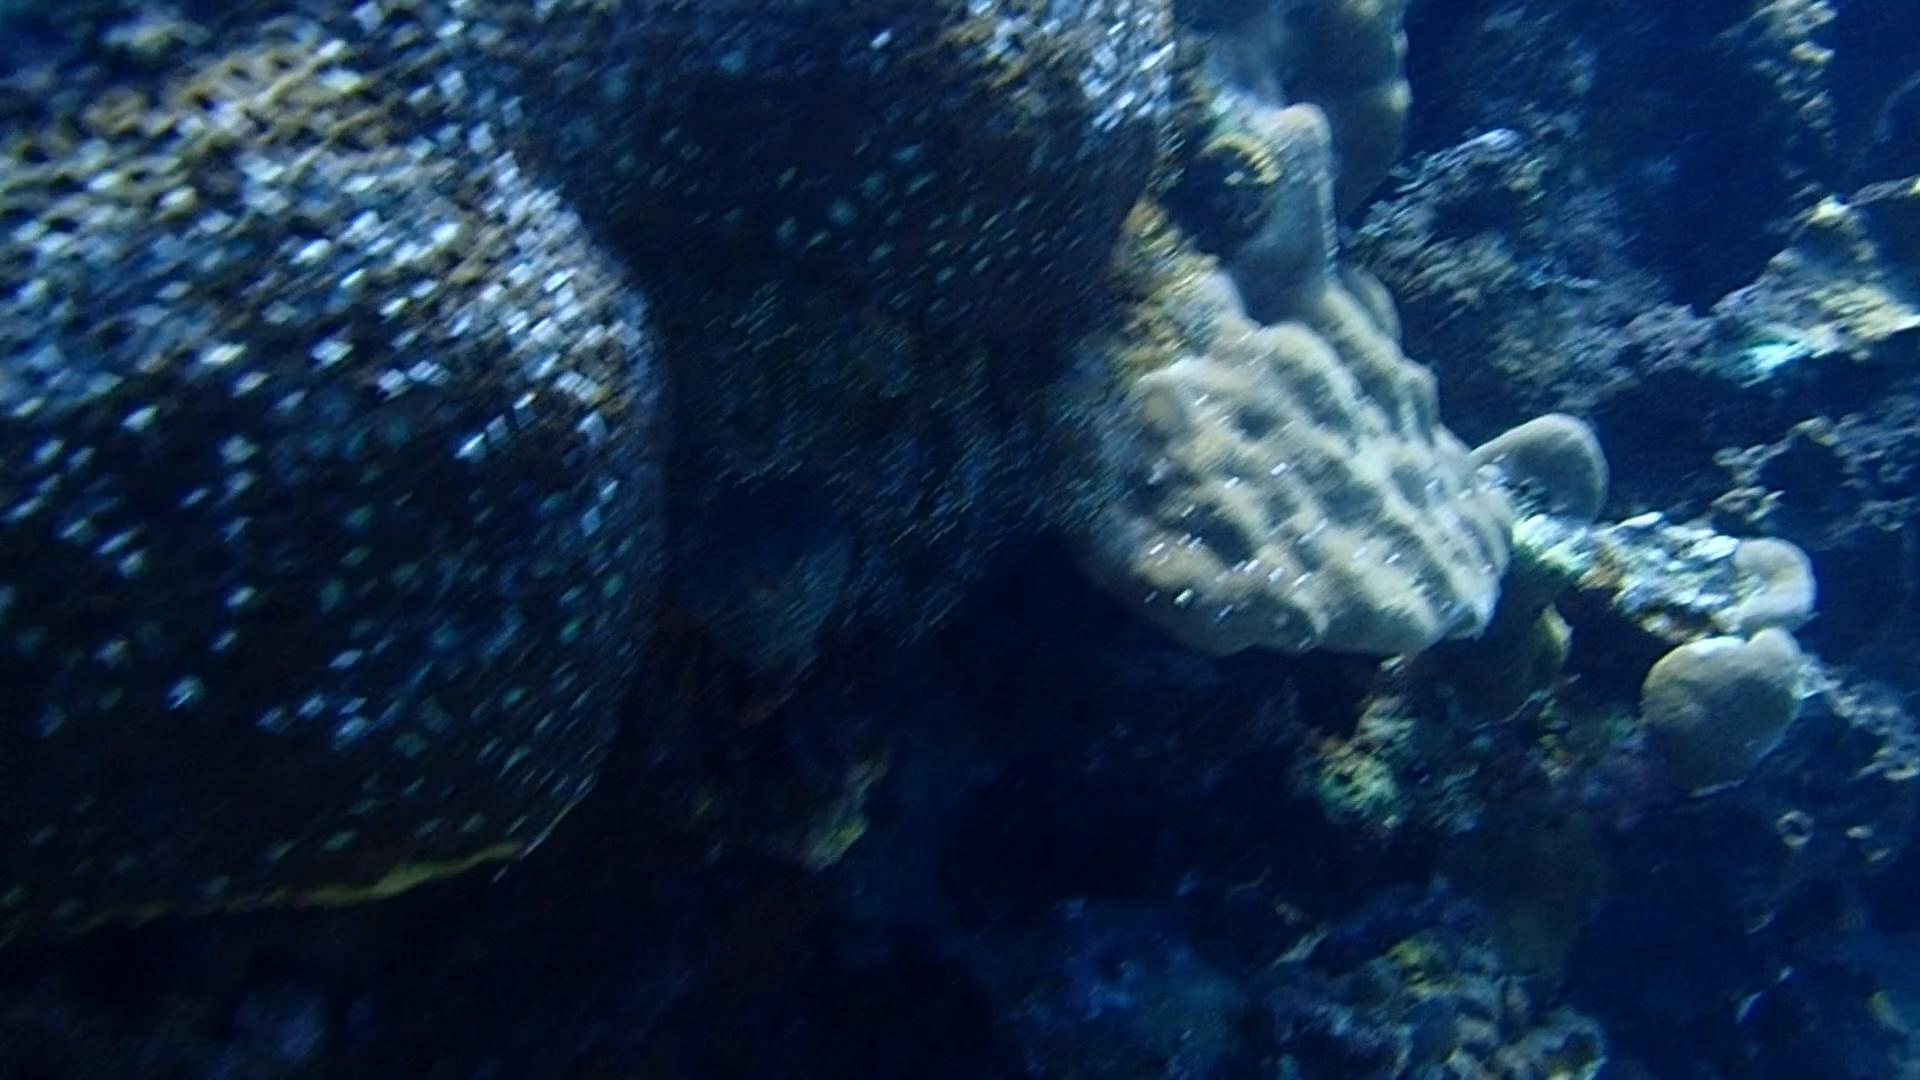Dark Fish: (1406, 169, 1545, 255)
